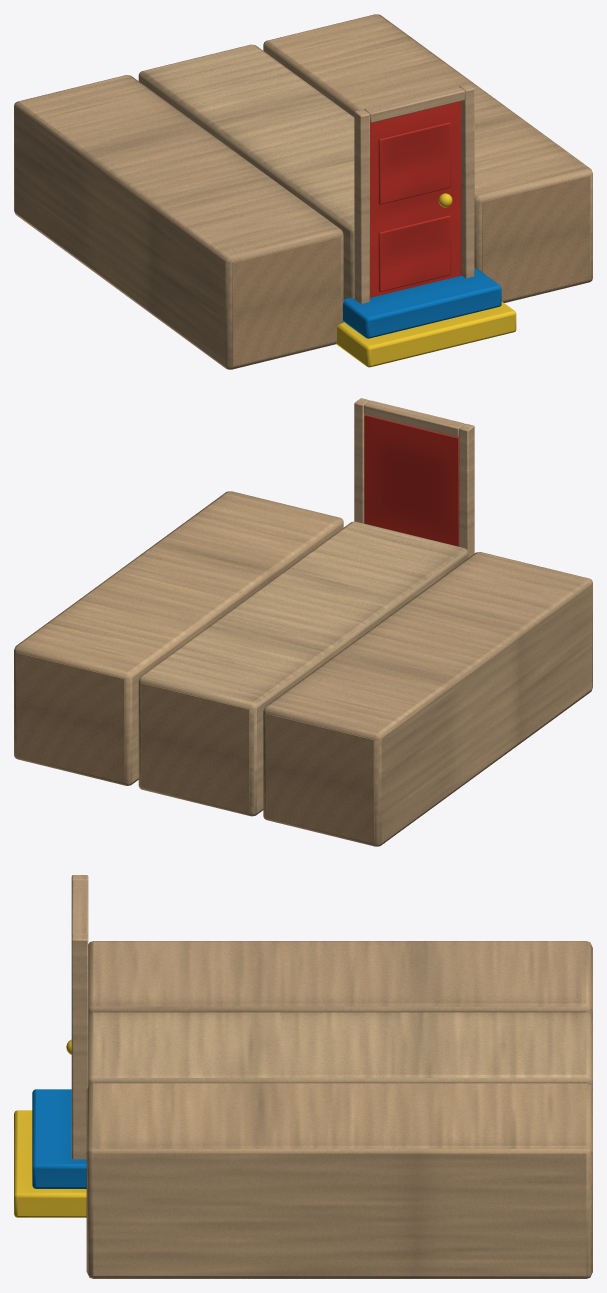
The model's file is 1-crossed-block-layers-1-1.fbx.
The picture shows the model from 3 angles, top to bottom: view 1: azimuth 30°, elevation 25°; view 2: azimuth 150°, elevation 25°; view 3: azimuth 270°, elevation 25°; orthographic projection. The views are drawn at different scales.
Visible parts, largest first — view 1: crossed-block-layers-1-1; view 2: crossed-block-layers-1-1; view 3: crossed-block-layers-1-1.
Boxes of the visible parts, x1,y1,x2,y2 form: crossed-block-layers-1-1: (14, 14, 592, 369); crossed-block-layers-1-1: (14, 398, 592, 846); crossed-block-layers-1-1: (14, 875, 592, 1278).
Bounding box in the file's own units: 5400 × 3240 × 6308.
1 material, 1 textured.
